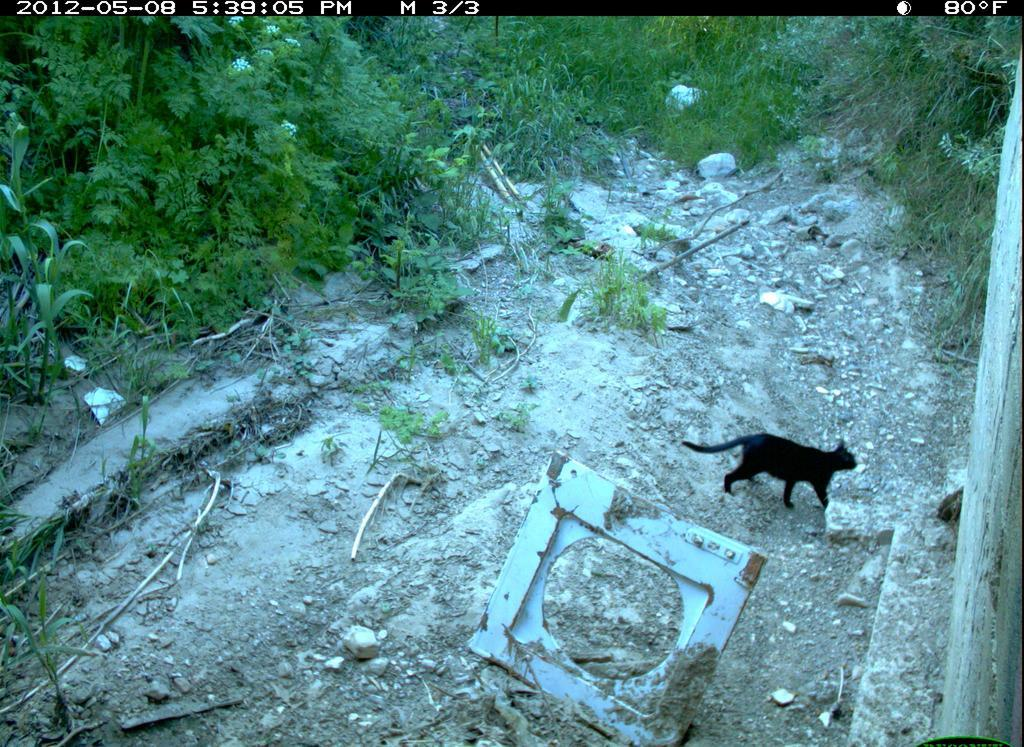cat: (674, 429, 870, 528)
